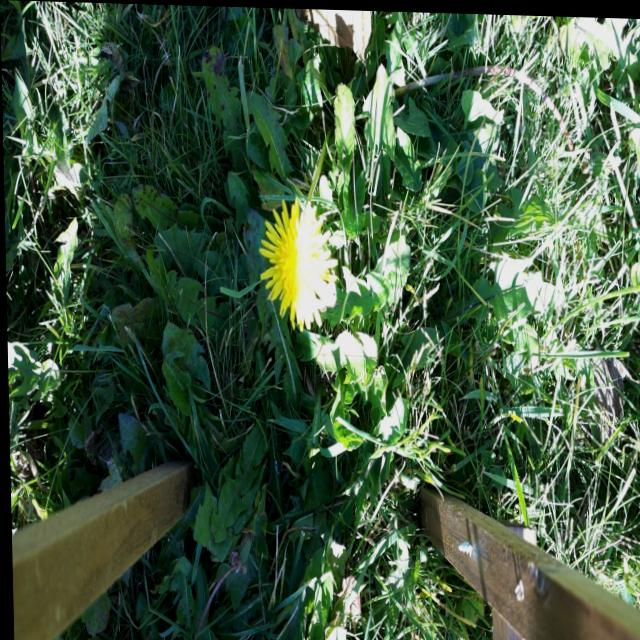base: (319, 107, 344, 146), (385, 69, 405, 106)
